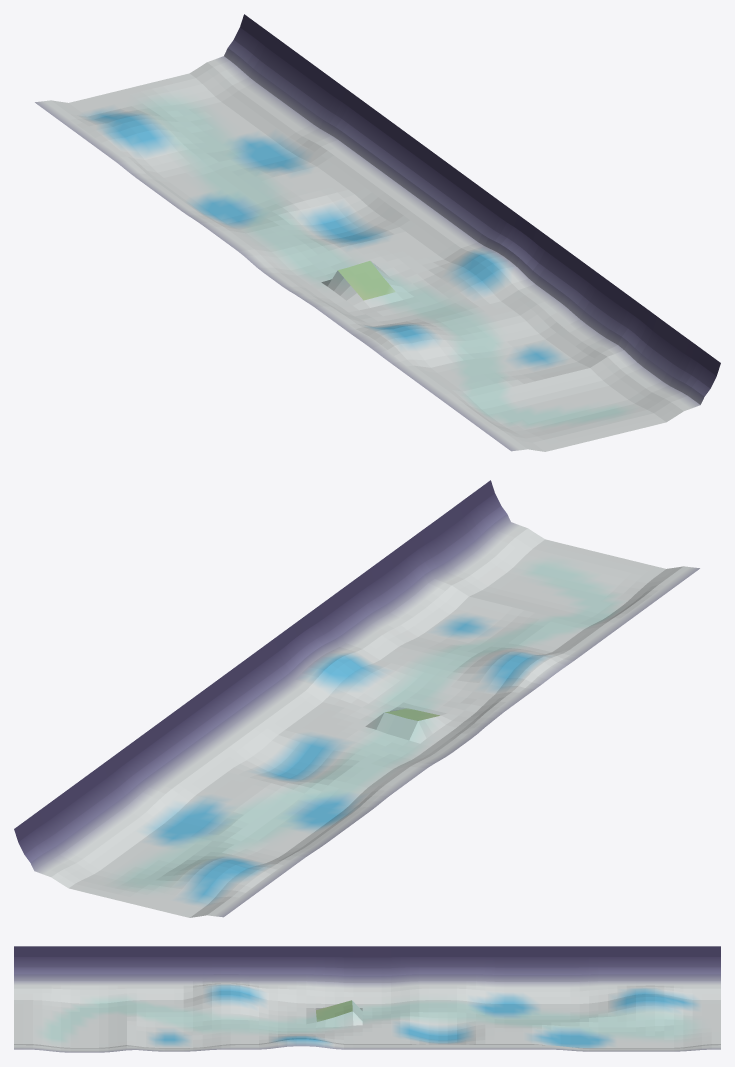
File: Level-Kit.glb
3 views of the same model, one above another, from view 1: azimuth 30°, elevation 25°; view 2: azimuth 150°, elevation 25°; view 3: azimuth 270°, elevation 25° (orthographic). The views are drawn at different scales.
Visible parts, largest first — view 1: Kit_02; view 2: Kit_02; view 3: Kit_02.
Boxes of the visible parts, left/top/right/bottom form: Kit_02: left=35, top=14, right=720, bottom=451; Kit_02: left=14, top=480, right=699, bottom=917; Kit_02: left=14, top=946, right=720, bottom=1052.
Size of the model in its own units: 41.8 by 9.83 by 150.
